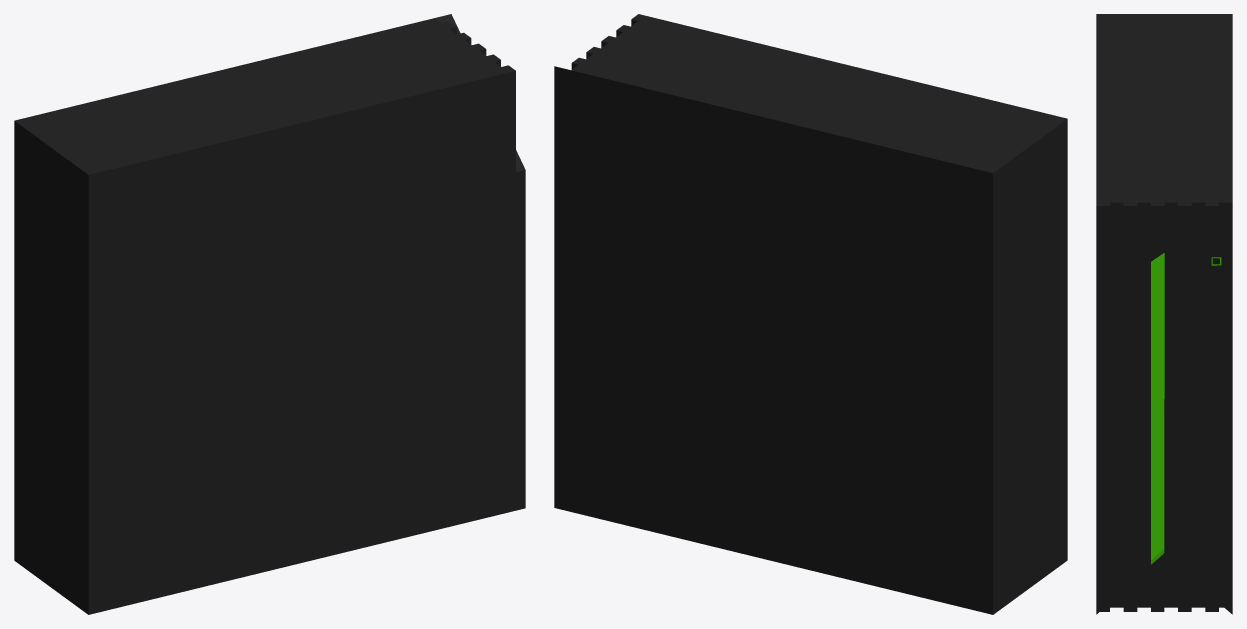
The model's file is Torre_PC.fbx.
The picture shows the model from 3 angles, left to right: view 1: azimuth 30°, elevation 25°; view 2: azimuth 150°, elevation 25°; view 3: azimuth 270°, elevation 25°; orthographic projection. The views are drawn at different scales.
Parts seen in each view (by area): view 1: Cube; view 2: Cube; view 3: Cube.
Part boxes in pixels (x1,y1,x2,y2): Cube: (14, 14, 525, 614); Cube: (554, 14, 1067, 614); Cube: (1096, 14, 1232, 614).
Bounding box in the file's own units: 673 × 648 × 198.
